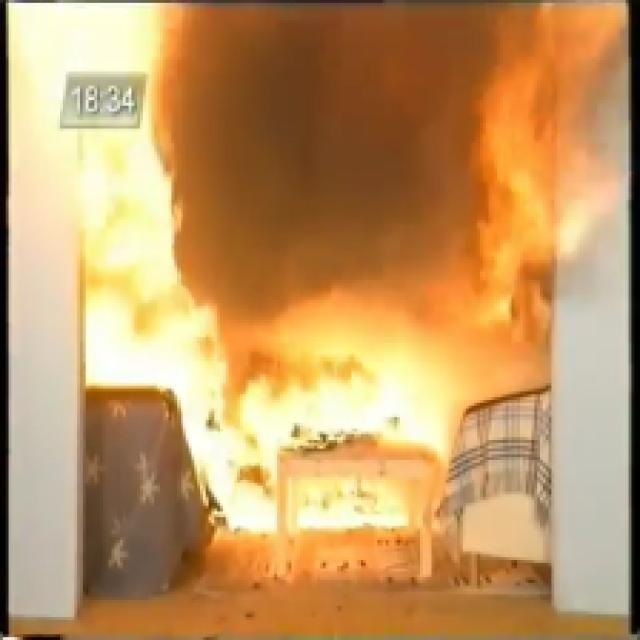Fire: (72, 1, 213, 386), (474, 2, 634, 327), (228, 314, 451, 441), (193, 397, 284, 543)
